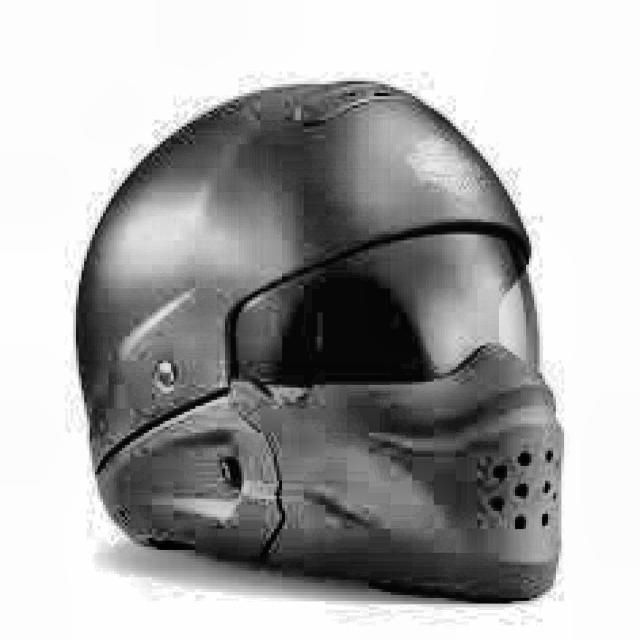Helmet: (68, 61, 579, 618)
